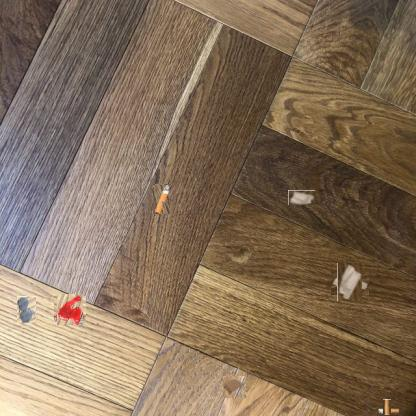dirty: (334, 267, 366, 298), (226, 246, 254, 266), (152, 184, 170, 214), (224, 376, 248, 398), (288, 190, 315, 205), (379, 403, 395, 416)
liquid: (56, 295, 84, 324), (18, 296, 38, 323)
